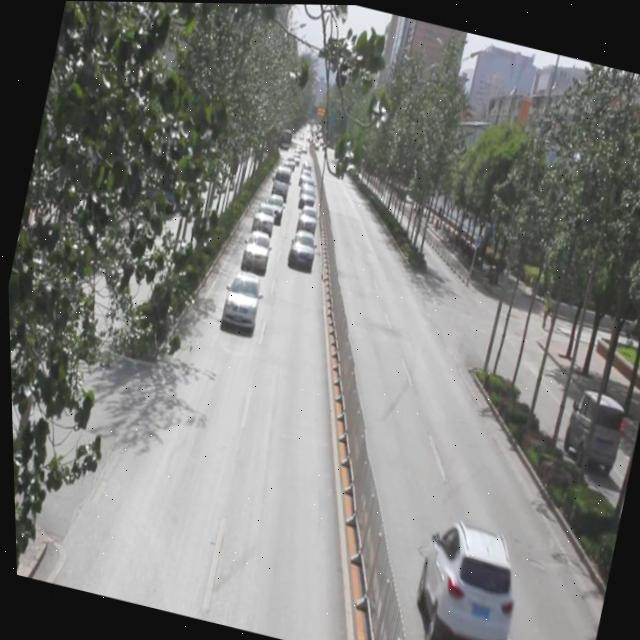car: (397, 510, 528, 640), (215, 264, 264, 332), (237, 227, 273, 274), (284, 226, 318, 269), (249, 199, 276, 232), (292, 201, 319, 233), (260, 190, 285, 222)
truck: (553, 379, 624, 471)
